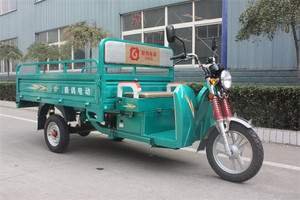tricycle: (15, 36, 269, 186)
